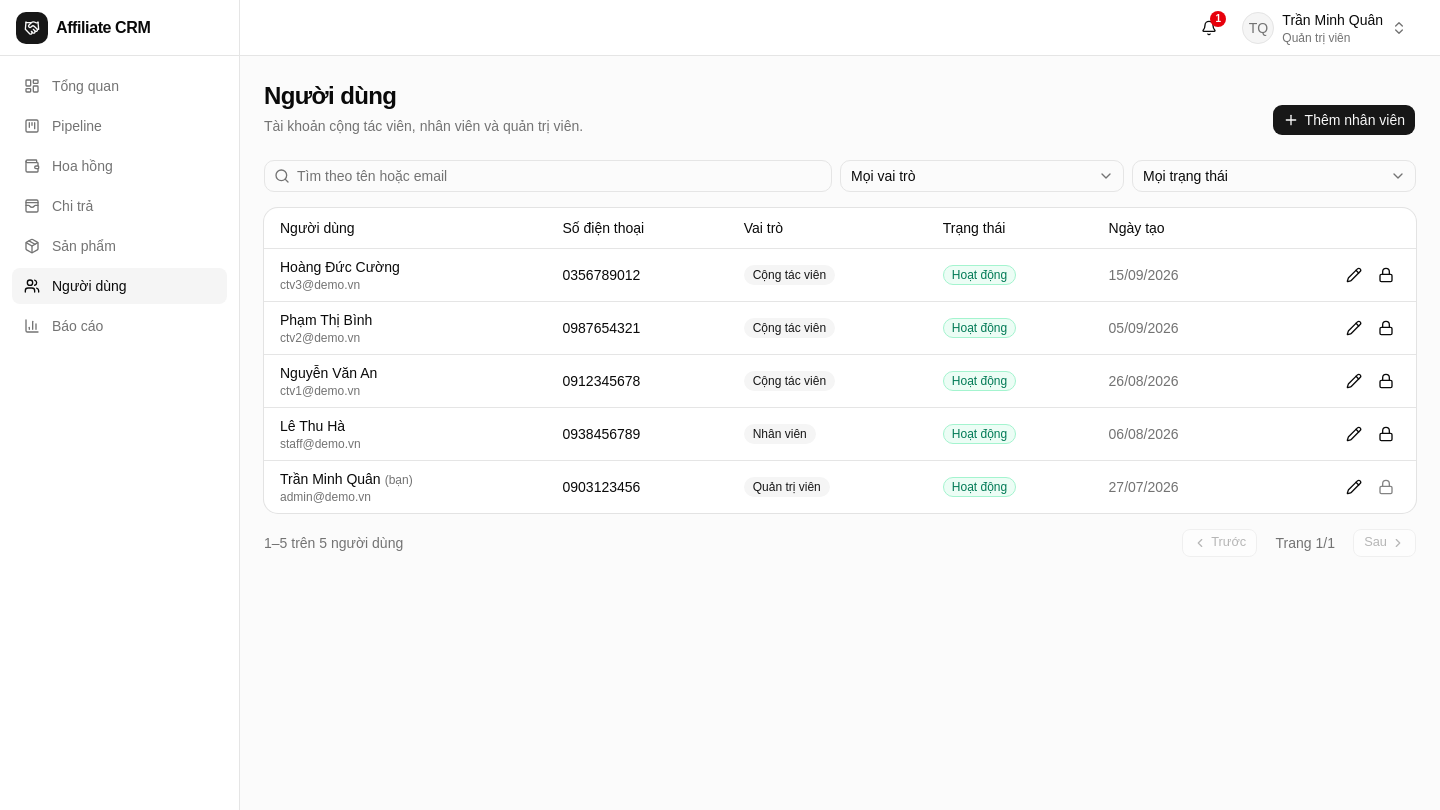
Test: UsersPage (admin) › lists all accounts and filters by role
Expected: the text "(bạn)" is shown, [385,472,413,486]
Select "Cộng tác viên" in the dropdown named "Vai trò" at (982, 176), box [840,160,1124,192]
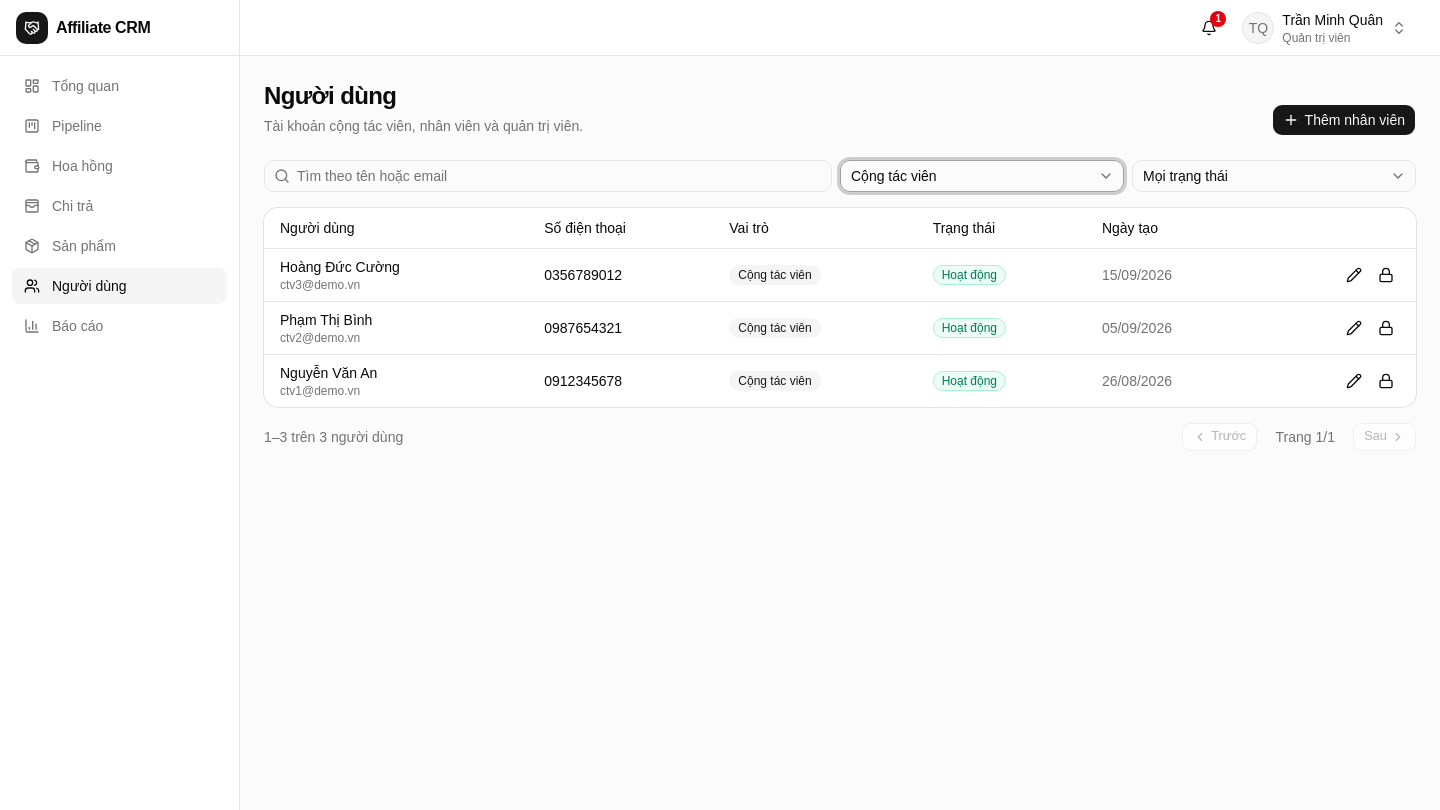
Expected: the text "1–3 trên 3 người dùng" is shown, [264,426,403,446]
